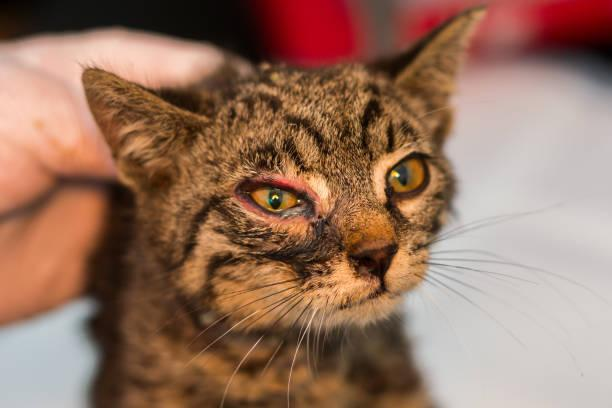eye_infection: (233, 173, 318, 223)
